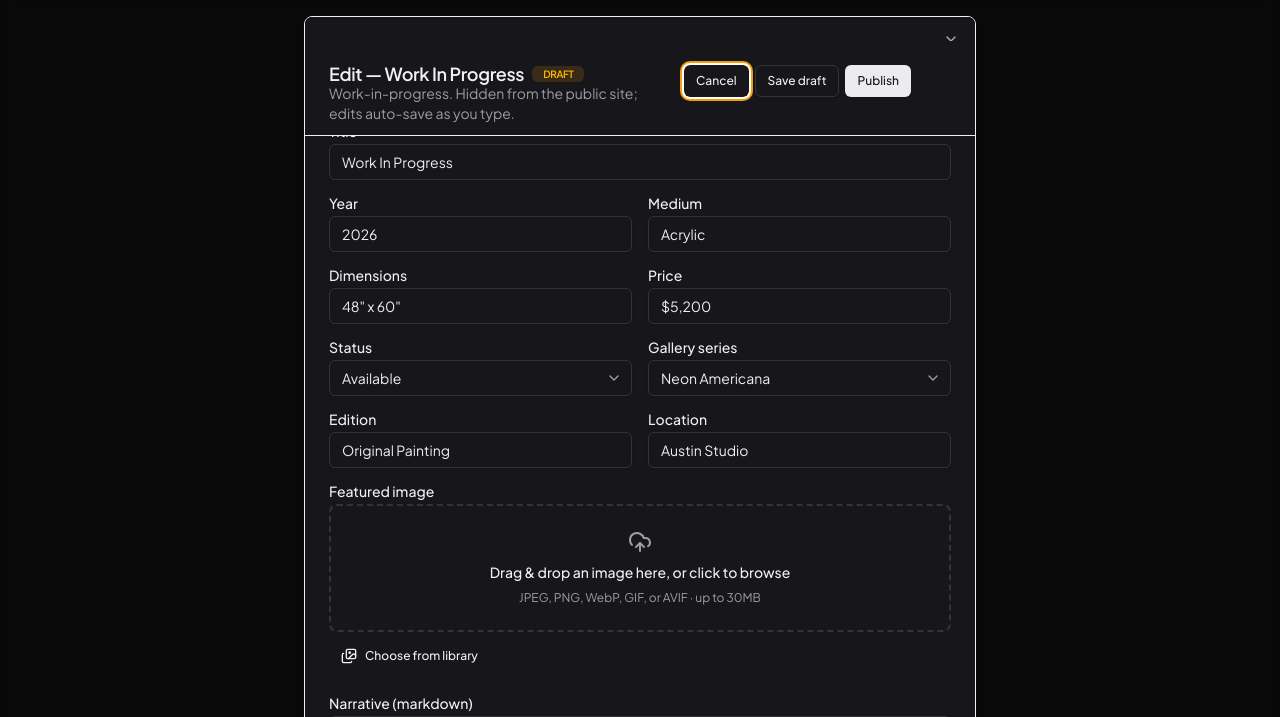
it: <ArtworkEditDialog/> auto-save › auto-saves a persisted draft after the debounce window
Type "!" into the field labelled "Title *" at (640, 162), box [329,144,951,180]
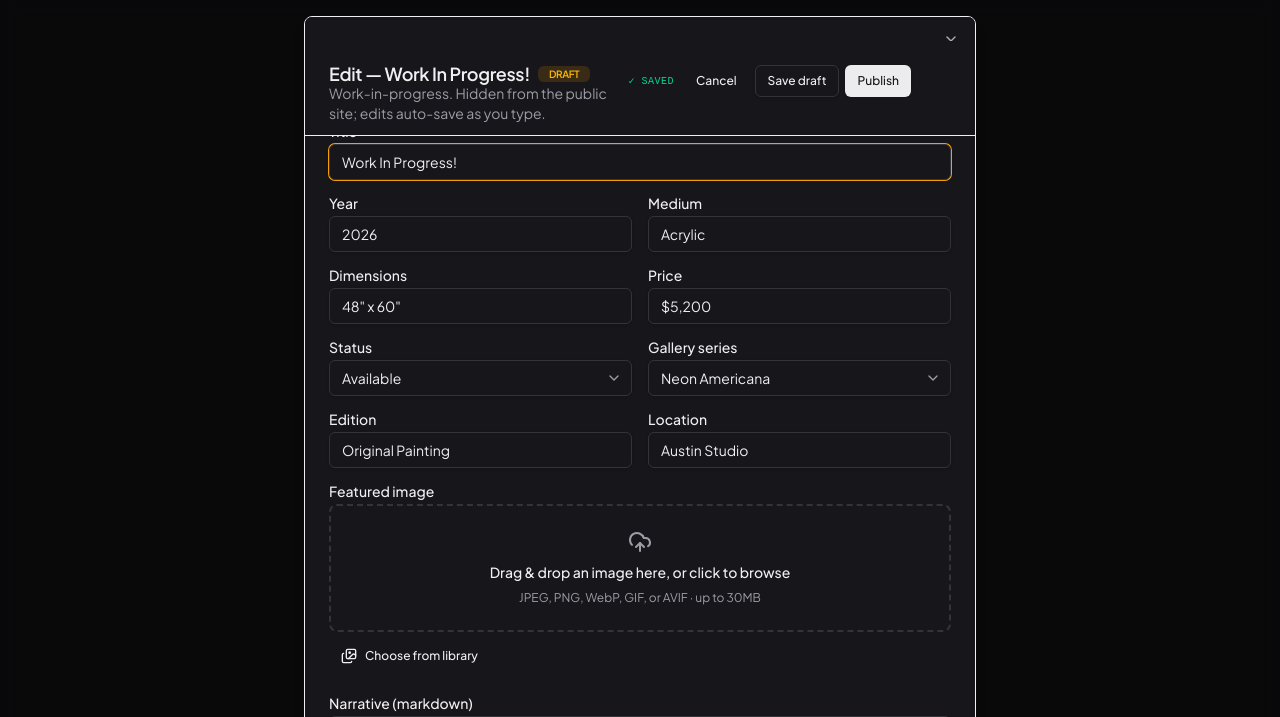
expect the text "✓ Saved" is shown: met, box [628,74,674,88]
